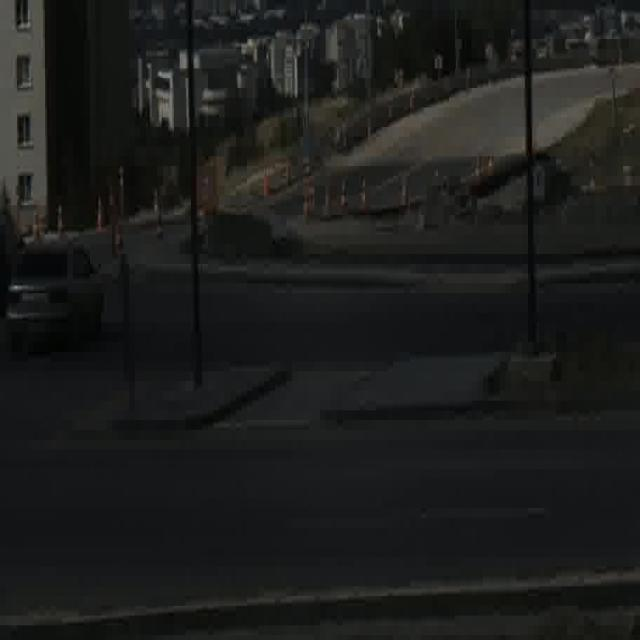Car: (5, 242, 109, 346)
